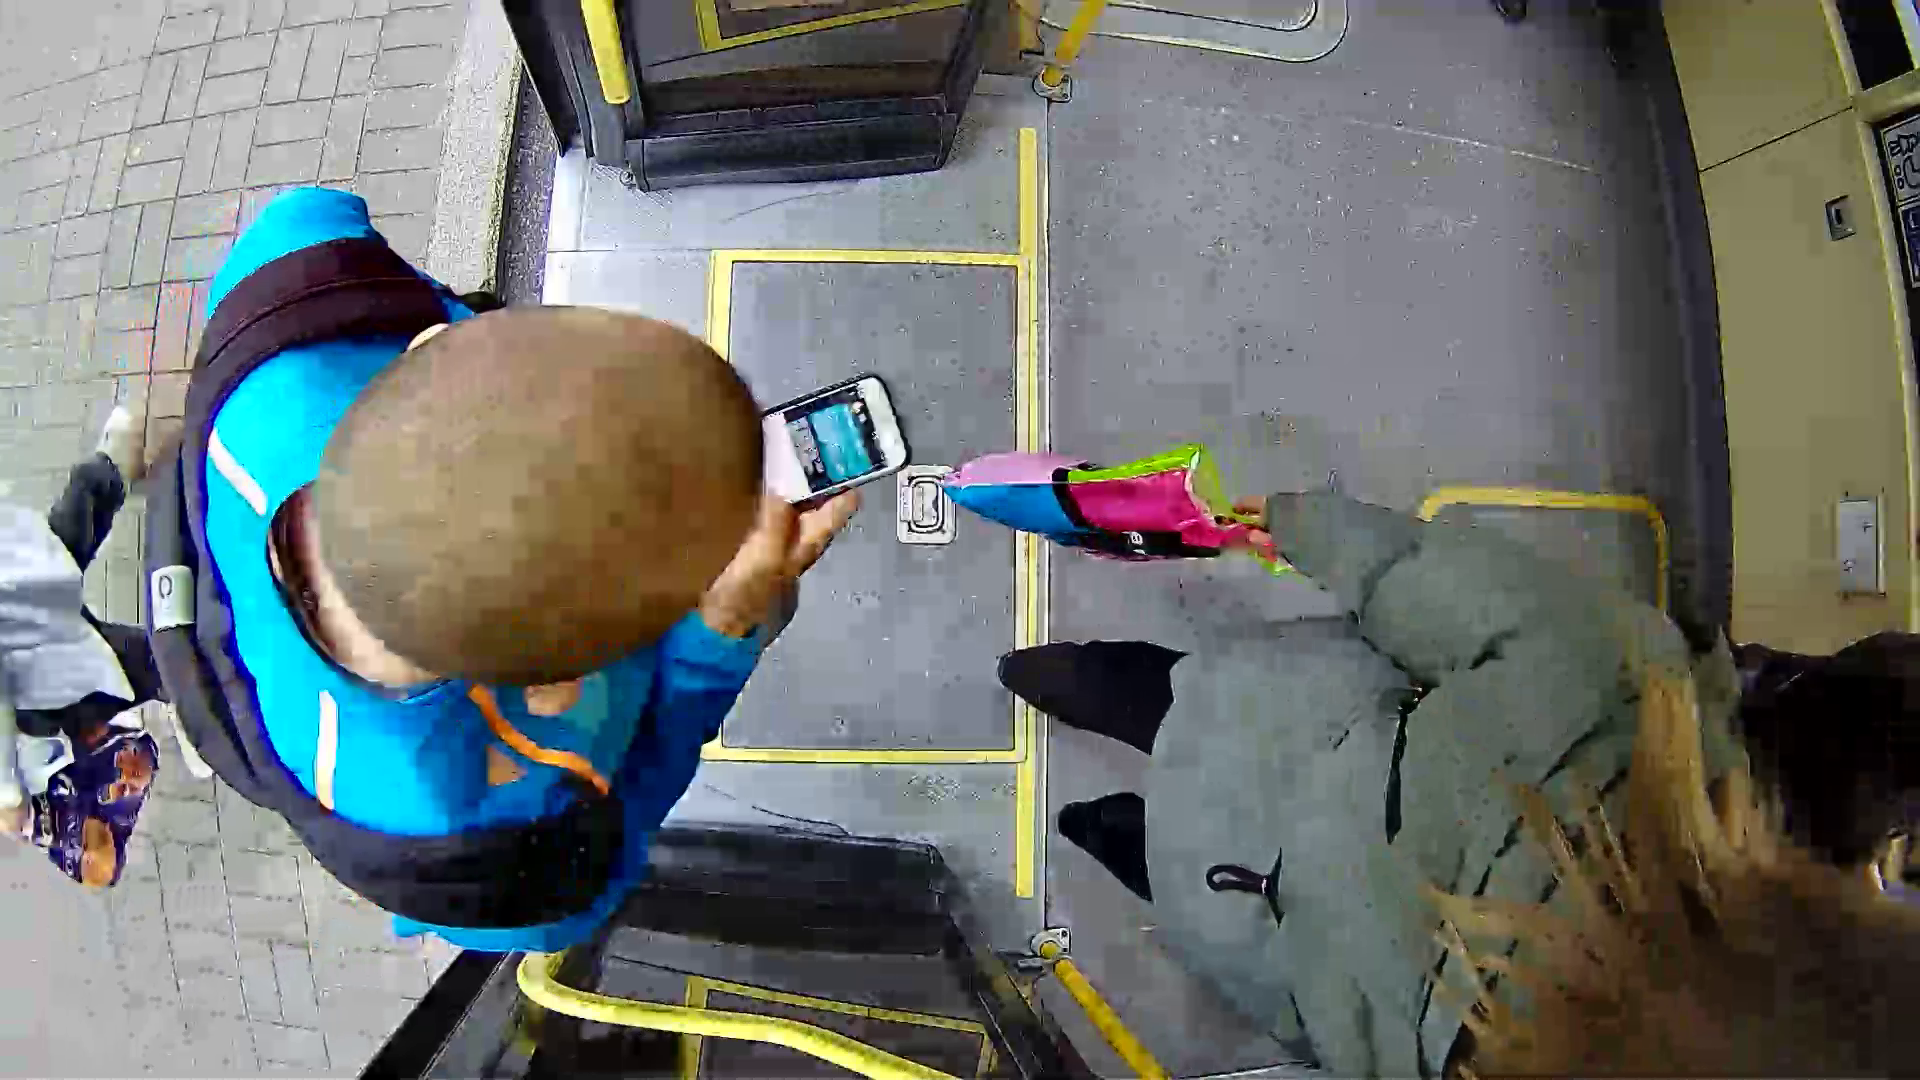person: (1056, 447, 1920, 1073), (102, 242, 788, 872)
